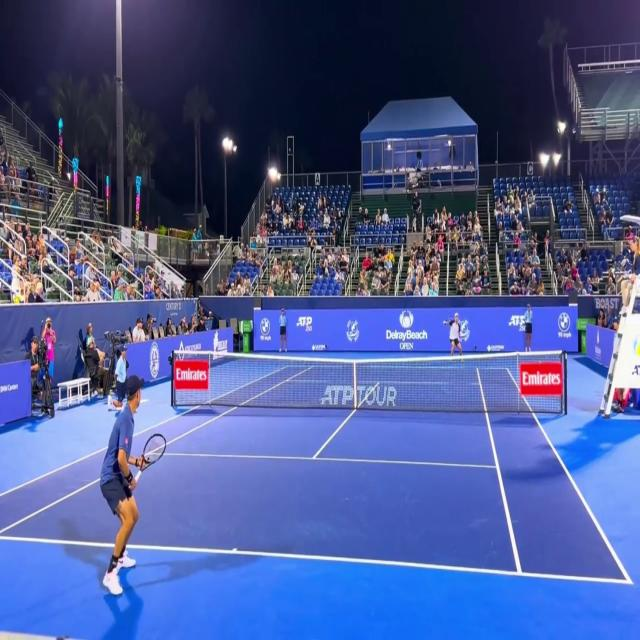tennisBall: (310, 343, 316, 352)
